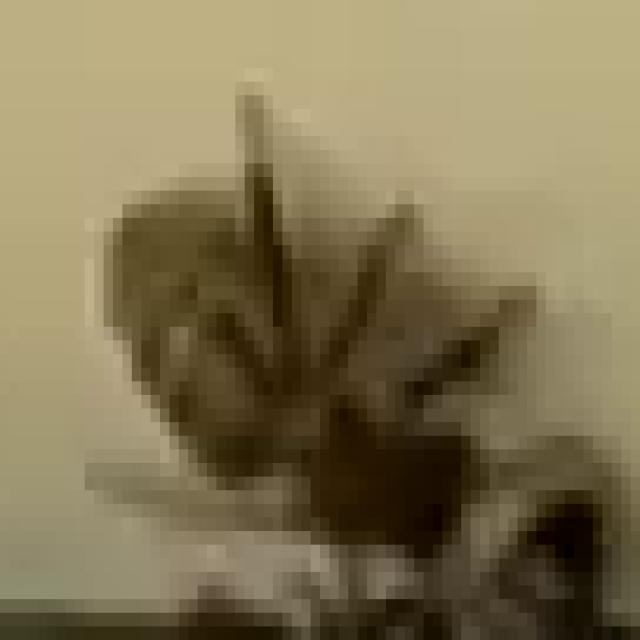honeybee: (111, 97, 637, 640)
